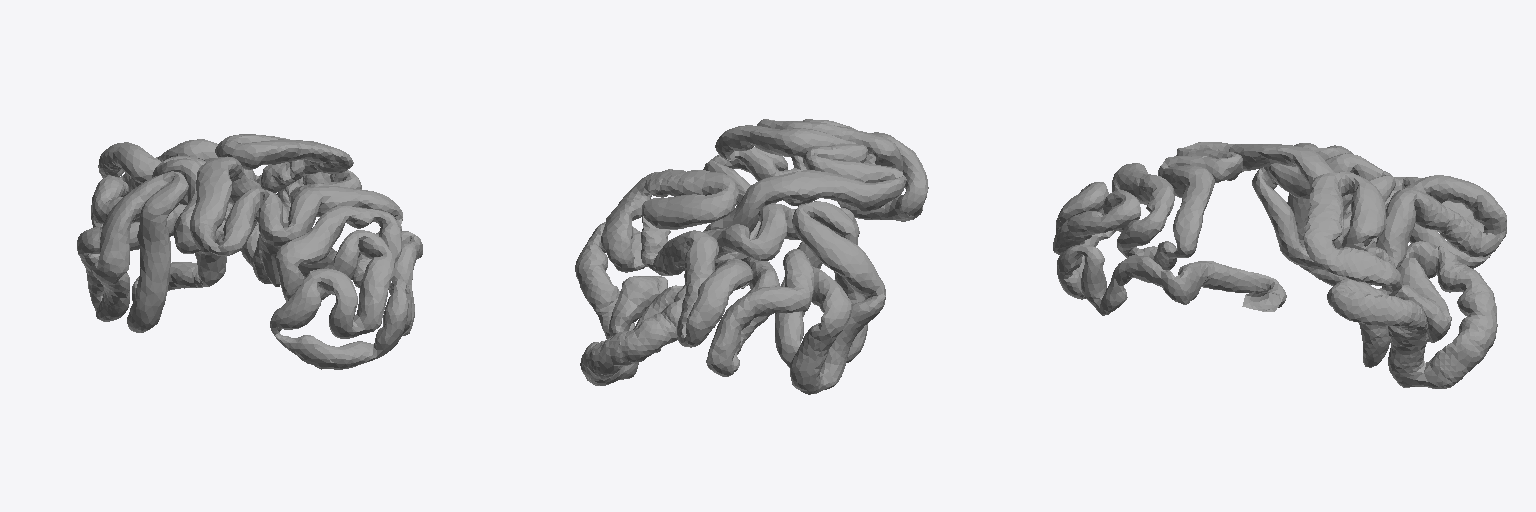
File: intestin_narrow_visu.obj
The picture shows the model from 3 angles: view 1: azimuth 30°, elevation 25°; view 2: azimuth 150°, elevation 25°; view 3: azimuth 270°, elevation 25°; orthographic projection.
Visible parts, largest first — view 1: Small_Intestines_Small_Intestines_Mesh; view 2: Small_Intestines_Small_Intestines_Mesh; view 3: Small_Intestines_Small_Intestines_Mesh.
Part boxes in pixels (bbox=[...]): Small_Intestines_Small_Intestines_Mesh: bbox=[77, 134, 422, 369]; Small_Intestines_Small_Intestines_Mesh: bbox=[575, 119, 928, 394]; Small_Intestines_Small_Intestines_Mesh: bbox=[1053, 142, 1506, 388].
Bounding box in the file's own units: 3.98 × 2.53 × 5.61.